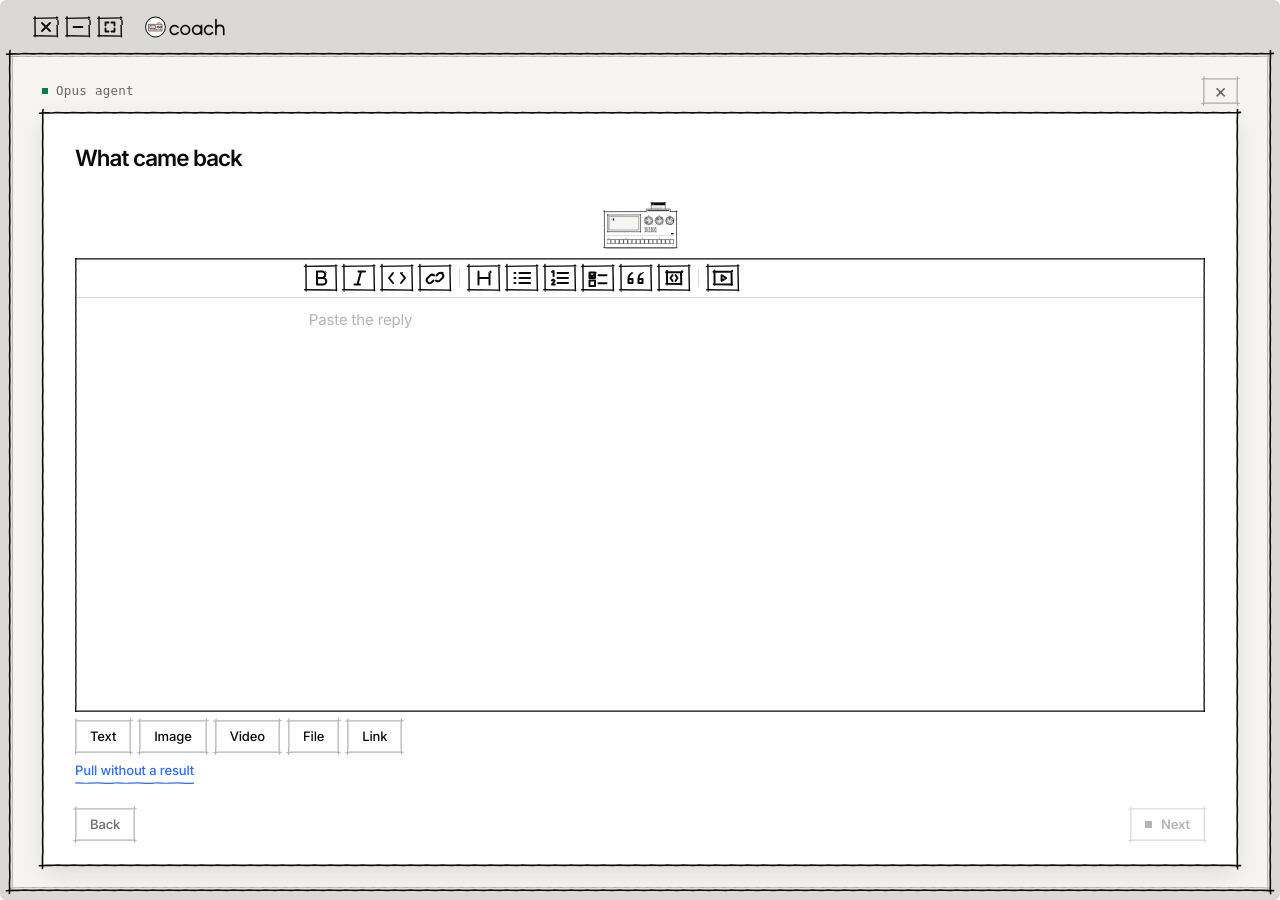
TestDeck › pulling without a result removes the plug and goes home
Expected: the heading "What came back" is shown, [75,144,242,171]
Click the button "Pull without a result" at (135, 772), box [75,761,194,784]
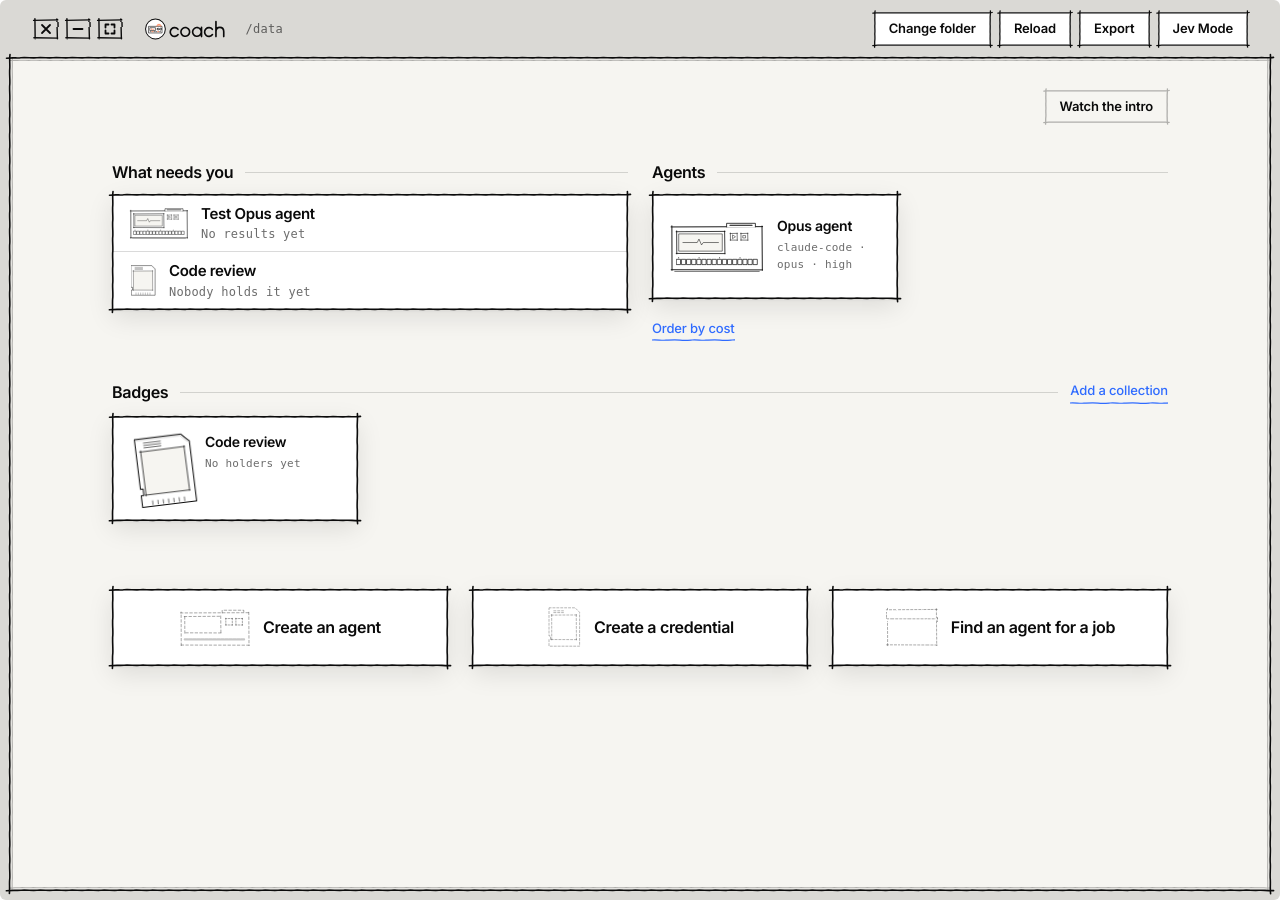
Expected: the button "Create a credential" is shown, [472,588,808,666]
